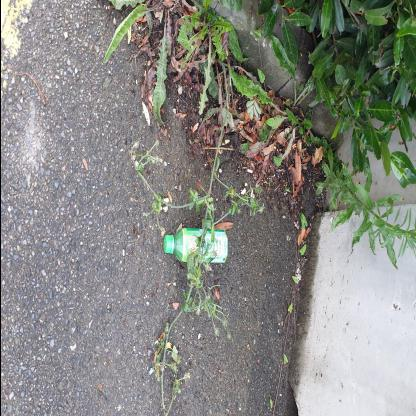plastik: (164, 229, 228, 265)
